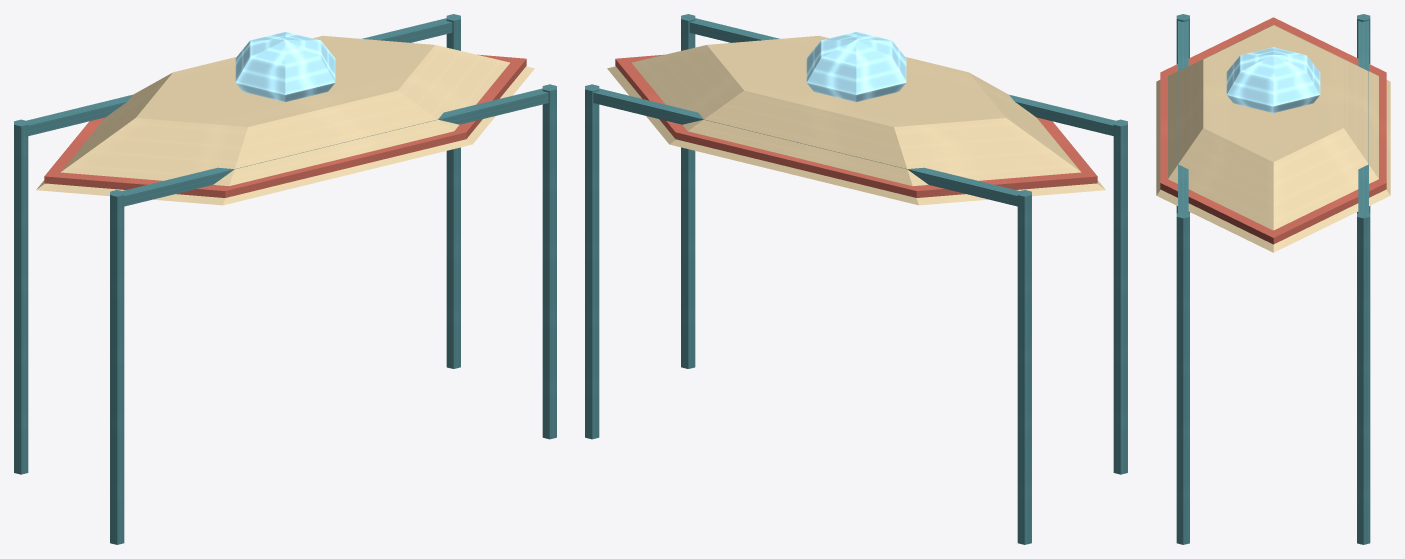
The model's file is atlas100-s071-a08.lod2.glb.
The picture shows the model from 3 angles, left to right: view 1: azimuth 30°, elevation 25°; view 2: azimuth 150°, elevation 25°; view 3: azimuth 270°, elevation 25°; orthographic projection. The views are drawn at different scales.
Parts seen in each view (by area): view 1: atlas100-s071-a08:part-010, atlas100-s071-a08:part-011, atlas100-s071-a08:part-012, atlas100-s071-a08:part-000, atlas100-s071-a08:part-002, atlas100-s071-a08:part-006, atlas100-s071-a08:part-004, atlas100-s071-a08:part-009, atlas100-s071-a08:part-008; view 2: atlas100-s071-a08:part-010, atlas100-s071-a08:part-011, atlas100-s071-a08:part-012, atlas100-s071-a08:part-000, atlas100-s071-a08:part-002, atlas100-s071-a08:part-004, atlas100-s071-a08:part-006, atlas100-s071-a08:part-008, atlas100-s071-a08:part-009; view 3: atlas100-s071-a08:part-010, atlas100-s071-a08:part-011, atlas100-s071-a08:part-012, atlas100-s071-a08:part-004, atlas100-s071-a08:part-006, atlas100-s071-a08:part-008, atlas100-s071-a08:part-009.
Boxes of the visible parts, left/top/right/bottom form: atlas100-s071-a08:part-010: left=36, top=35, right=534, bottom=205; atlas100-s071-a08:part-011: left=44, top=54, right=526, bottom=197; atlas100-s071-a08:part-012: left=235, top=32, right=335, bottom=101; atlas100-s071-a08:part-000: left=14, top=119, right=28, bottom=474; atlas100-s071-a08:part-002: left=110, top=190, right=124, bottom=544; atlas100-s071-a08:part-006: left=542, top=84, right=556, bottom=439; atlas100-s071-a08:part-004: left=446, top=14, right=460, bottom=368; atlas100-s071-a08:part-009: left=123, top=88, right=548, bottom=206; atlas100-s071-a08:part-008: left=26, top=18, right=452, bottom=135; atlas100-s071-a08:part-010: left=607, top=35, right=1105, bottom=205; atlas100-s071-a08:part-011: left=615, top=54, right=1097, bottom=197; atlas100-s071-a08:part-012: left=806, top=32, right=906, bottom=101; atlas100-s071-a08:part-000: left=1017, top=190, right=1031, bottom=544; atlas100-s071-a08:part-002: left=1113, top=119, right=1127, bottom=474; atlas100-s071-a08:part-004: left=585, top=84, right=599, bottom=439; atlas100-s071-a08:part-006: left=681, top=14, right=695, bottom=368; atlas100-s071-a08:part-008: left=593, top=88, right=1018, bottom=206; atlas100-s071-a08:part-009: left=689, top=18, right=1115, bottom=135; atlas100-s071-a08:part-010: left=1156, top=24, right=1390, bottom=252; atlas100-s071-a08:part-011: left=1160, top=17, right=1386, bottom=244; atlas100-s071-a08:part-012: left=1226, top=47, right=1320, bottom=112; atlas100-s071-a08:part-004: left=1357, top=212, right=1370, bottom=544; atlas100-s071-a08:part-006: left=1176, top=212, right=1189, bottom=544; atlas100-s071-a08:part-008: left=1358, top=21, right=1368, bottom=212; atlas100-s071-a08:part-009: left=1178, top=21, right=1188, bottom=212.
Bounding box in the file's own units: 6 × 4.75 × 2.6.
Materials: 4 (4 with a texture image).
